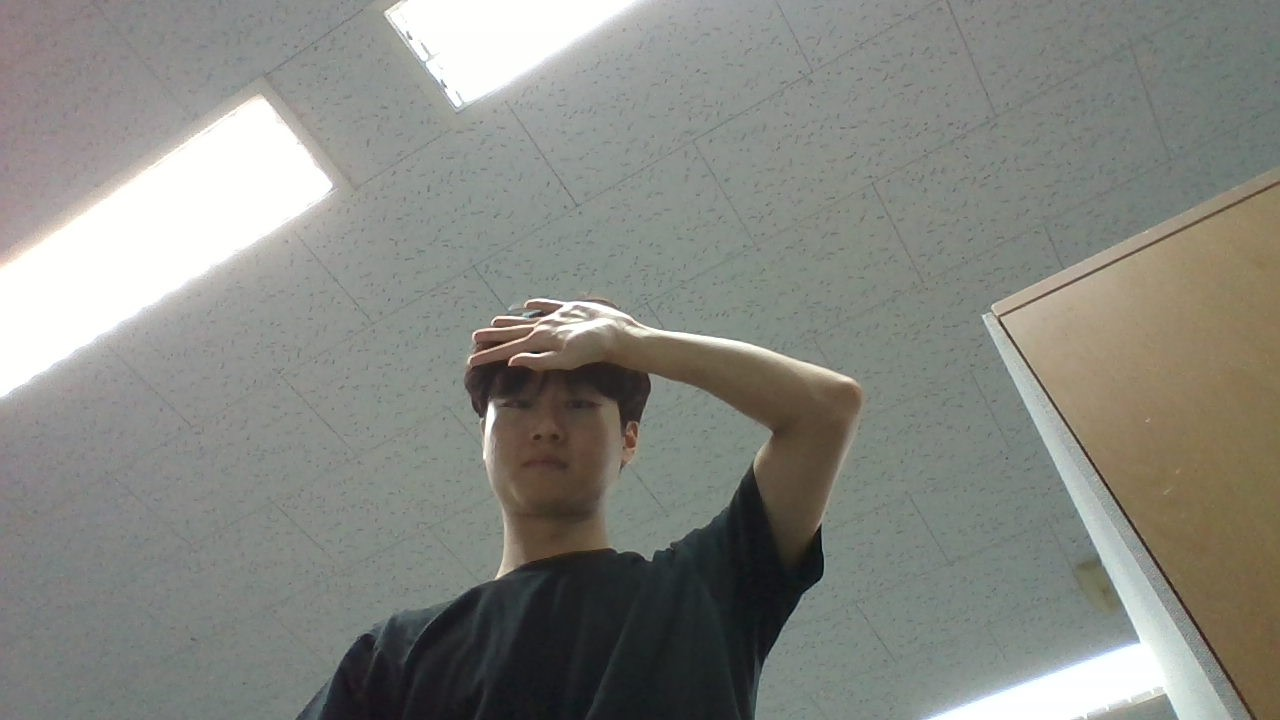Non-Helmet: (425, 285, 662, 535)
